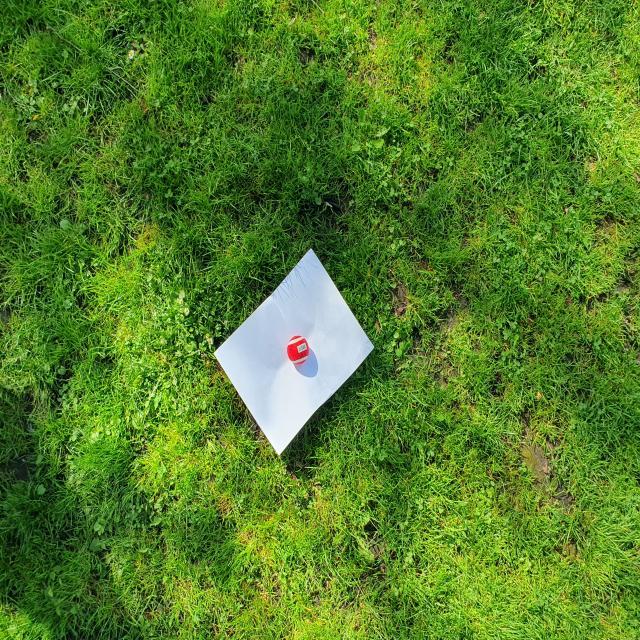red: (287, 335, 309, 365)
